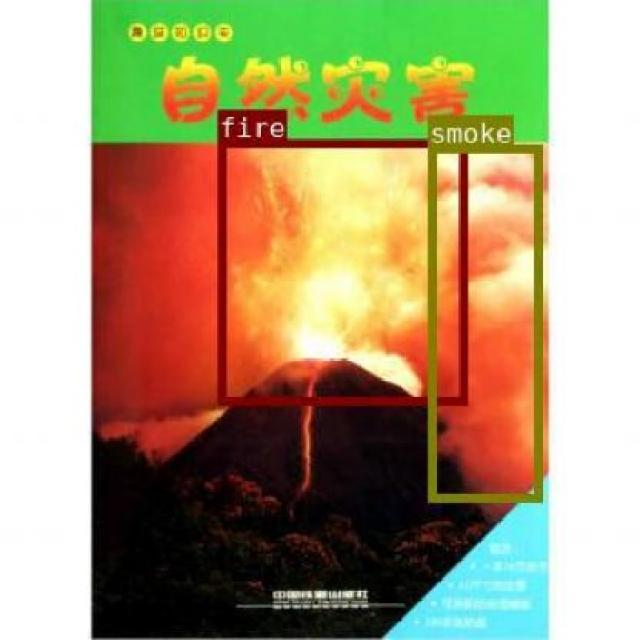fire: (217, 138, 465, 404)
smoke: (426, 144, 540, 500)
